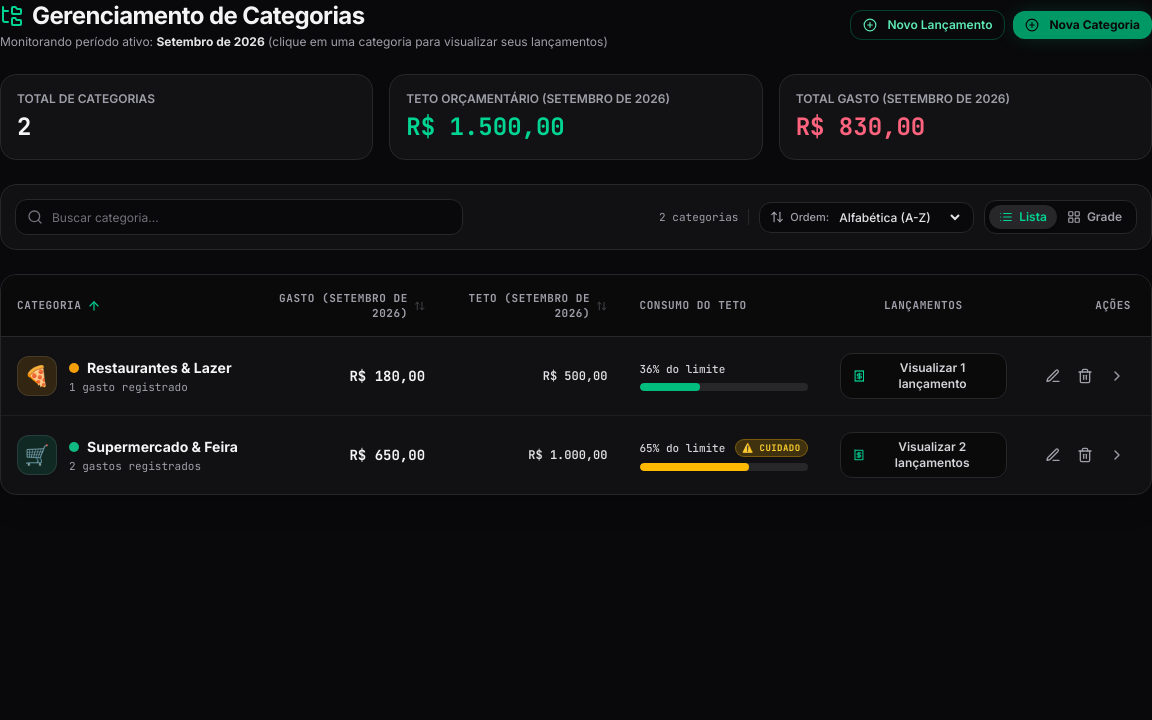
Test: Visualização de Lançamentos por Categoria (CategoryExpensesModal) › ao clicar em um card de categoria na CategoriesPage, abre o modal de lançamentos
Expected: the text "Supermercado & Feira" is shown, [87, 437, 238, 457]
Expected: the text "Visualizar 2 lançamentos" is shown, [895, 439, 970, 470]
# Clica no card da categoria Supermercado & Feira
What coordinates should you click on to do the following:
click the button "Supermercado & Feira"
I would click on:
 (576, 455)
Its box is [1, 416, 1151, 494].
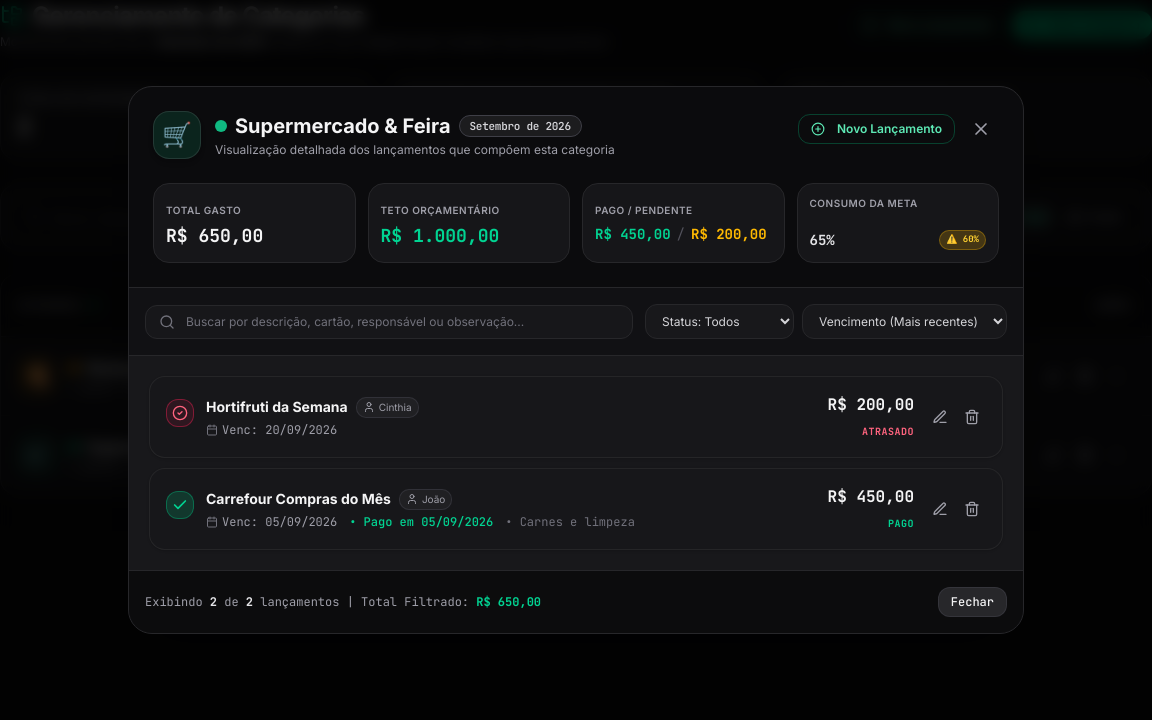
Expected: the text "Visualização detalhada dos lançamentos que compõem esta categoria" is shown, [215, 142, 615, 158]
Expected: the heading "Carrefour Compras do Mês" is shown, [206, 489, 391, 509]
Expected: the heading "Hortifruti da Semana" is shown, [206, 397, 348, 417]
